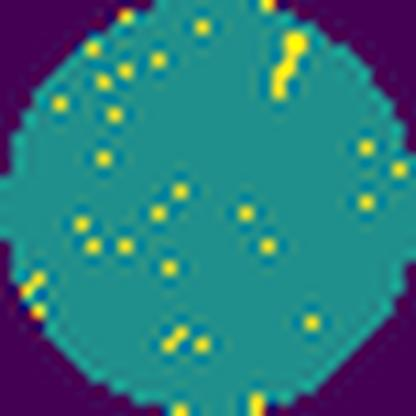Loc: (264, 30, 305, 102)
